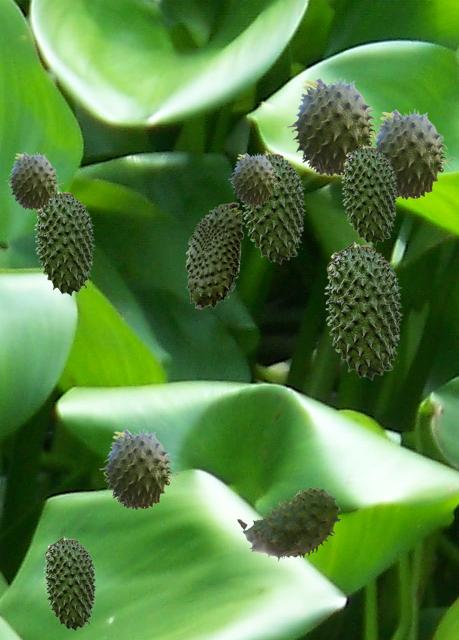guyabano: (324, 241, 402, 379), (286, 76, 379, 176), (370, 108, 454, 199), (237, 487, 340, 561), (242, 150, 305, 263), (99, 428, 179, 509), (34, 189, 94, 295), (185, 202, 243, 308), (341, 144, 397, 244), (43, 536, 96, 630), (5, 151, 62, 209), (228, 152, 281, 205)
